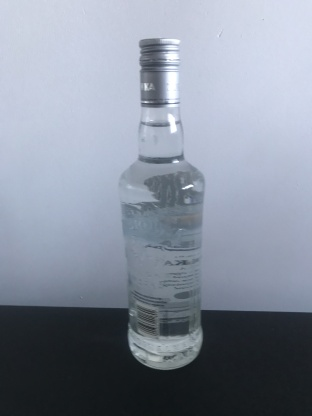nakretka: (137, 36, 182, 109)
